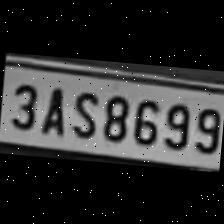3: (5, 74, 40, 130)
6: (126, 92, 162, 146)
8: (96, 87, 133, 144)
9: (157, 94, 194, 151), (188, 100, 224, 156)
A: (36, 79, 70, 137)
S: (64, 84, 102, 139)
